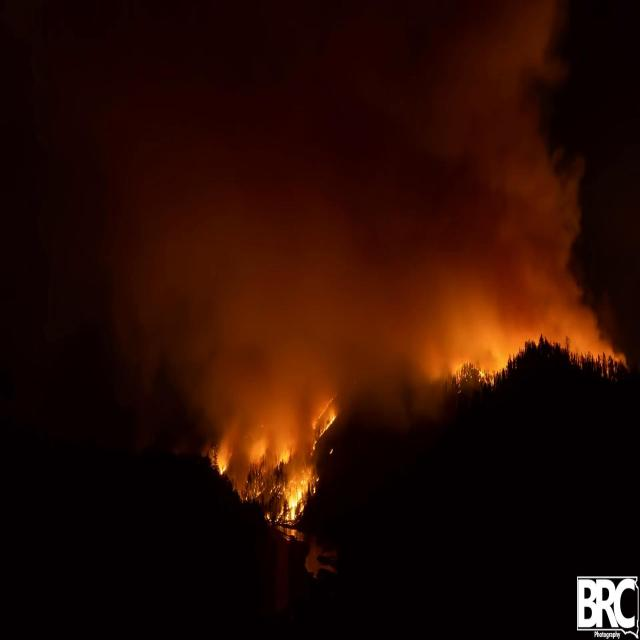Fire: (266, 467, 320, 523), (309, 396, 336, 453), (453, 359, 494, 390), (211, 446, 229, 475)
